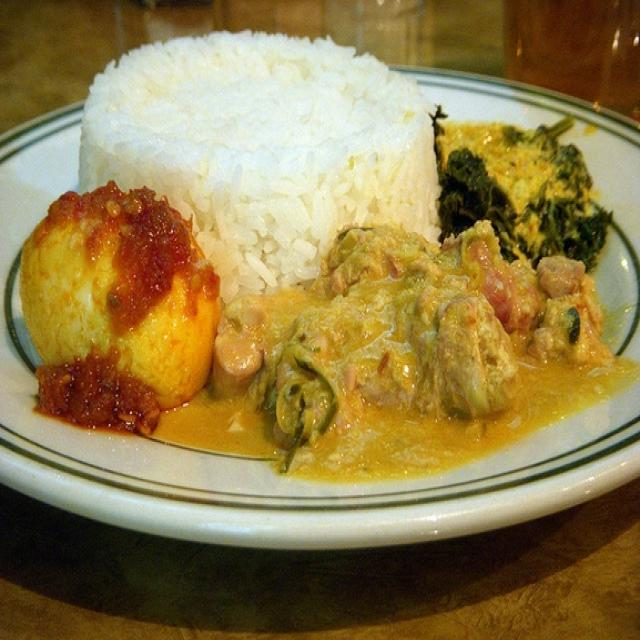熟制海鲜: (13, 18, 621, 575)
